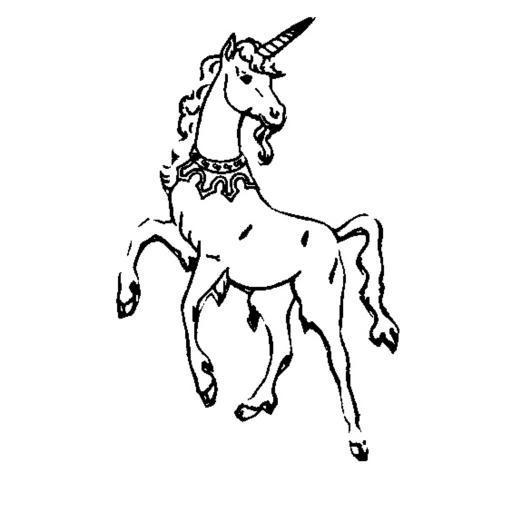horse: (116, 16, 400, 462)
